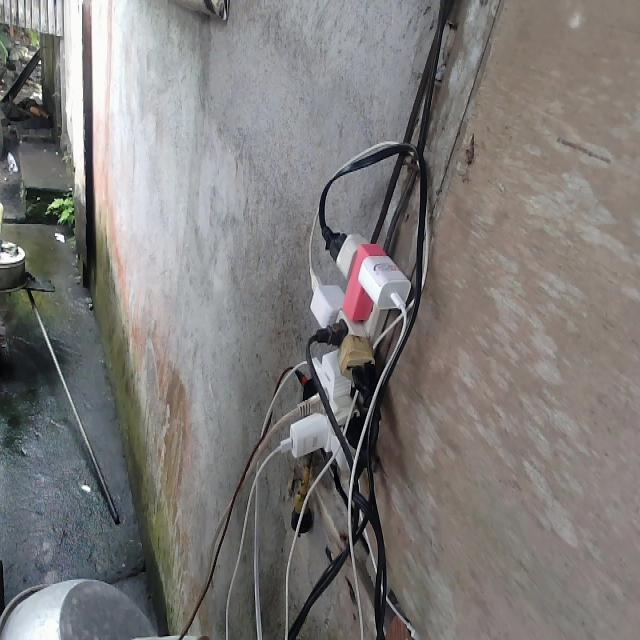-: (283, 228, 415, 469)
